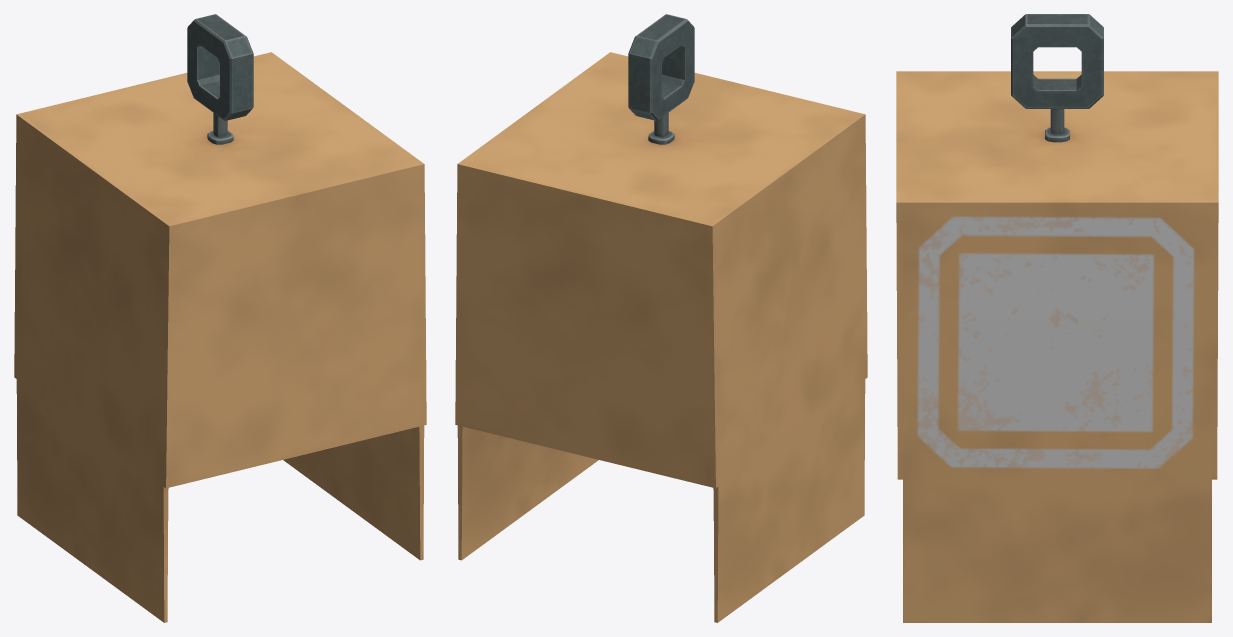
File: LootBox.fbx
3 renders of one model, left to right at view 1: azimuth 30°, elevation 25°; view 2: azimuth 150°, elevation 25°; view 3: azimuth 270°, elevation 25°, orthographic. The views are drawn at different scales.
Parts seen in each view (by area): view 1: Cube.010; view 2: Cube.010; view 3: Cube.010.
Part boxes in pixels (x1,y1,x2,y2): Cube.010: (14,14,426,622); Cube.010: (455,14,867,622); Cube.010: (896,14,1218,622).
Size of the model in its own units: 51.9 by 97.04 by 52.77.
